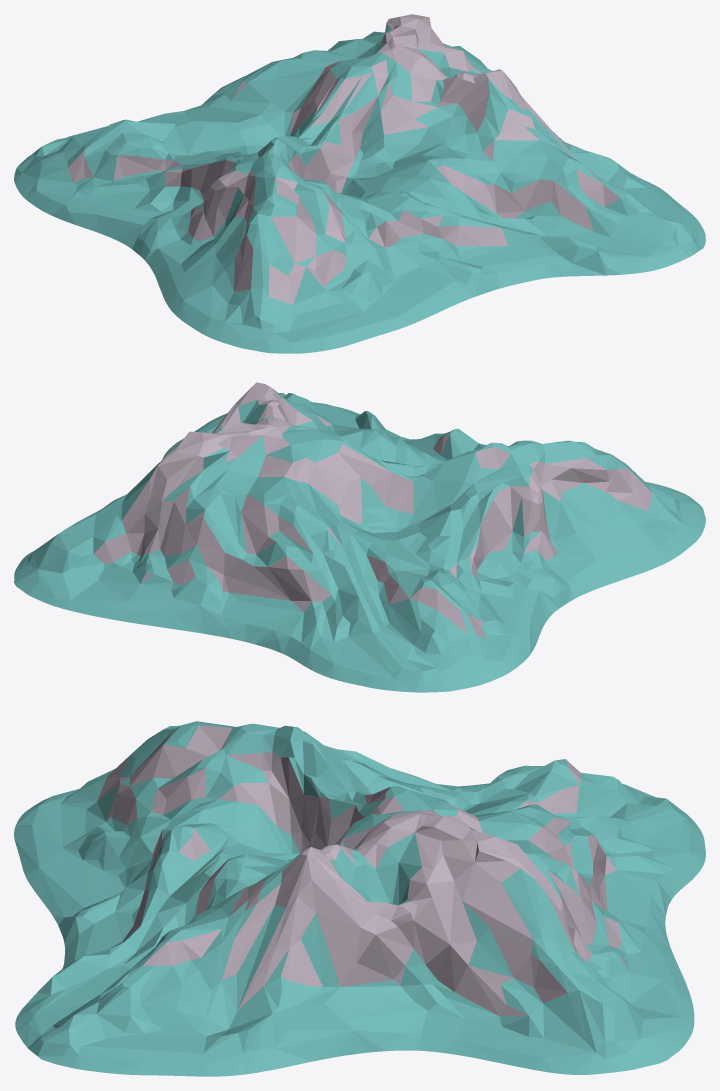
Rendered from SM_Generic_Mountains_Grass_01.fbx.
3 views of the same model, one above another, from view 1: azimuth 30°, elevation 25°; view 2: azimuth 150°, elevation 25°; view 3: azimuth 270°, elevation 25° (orthographic). The views are drawn at different scales.
Visible parts, largest first — view 1: SM_Generic_Mountains_Grass_01; view 2: SM_Generic_Mountains_Grass_01; view 3: SM_Generic_Mountains_Grass_01.
Part boxes in pixels (<box>): SM_Generic_Mountains_Grass_01: <box>14,14,705,353</box>; SM_Generic_Mountains_Grass_01: <box>14,382,705,692</box>; SM_Generic_Mountains_Grass_01: <box>14,721,705,1076</box>.
Bounding box in the file's own units: 22.61 × 5.57 × 22.35.
1 material, 1 textured.
